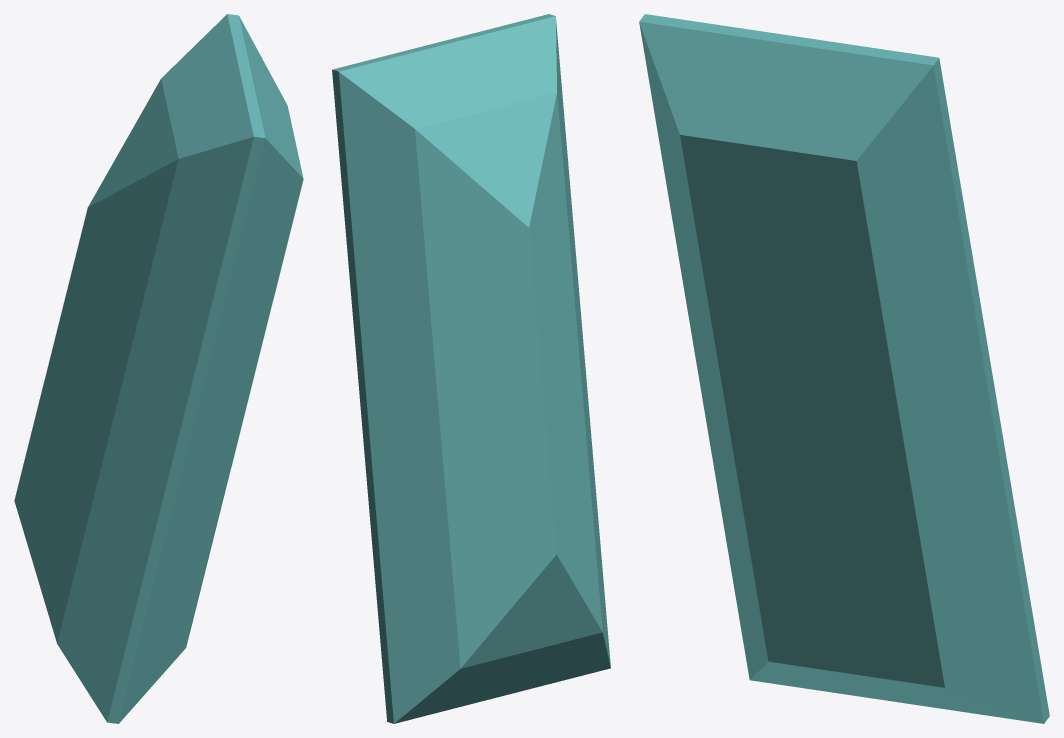
Rendered from TR5_Spacers_BaguetteStone.001 2.glb.
3 renders of one model, left to right at view 1: azimuth 30°, elevation 25°; view 2: azimuth 150°, elevation 25°; view 3: azimuth 270°, elevation 25°, orthographic. The views are drawn at different scales.
Parts seen in each view (by area): view 1: TR5_Spacers_BaguetteStone.001; view 2: TR5_Spacers_BaguetteStone.001; view 3: TR5_Spacers_BaguetteStone.001.
Boxes of the visible parts, x1,y1,x2,y2 form: TR5_Spacers_BaguetteStone.001: (14, 14, 303, 723); TR5_Spacers_BaguetteStone.001: (332, 14, 610, 723); TR5_Spacers_BaguetteStone.001: (639, 14, 1049, 723).
Bounding box in the file's own units: 0.1793 × 0.4274 × 0.2171.
